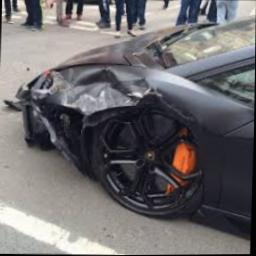Bonnet: (35, 23, 196, 93)
Bumper: (5, 80, 90, 175)
Fender: (28, 72, 249, 153)
